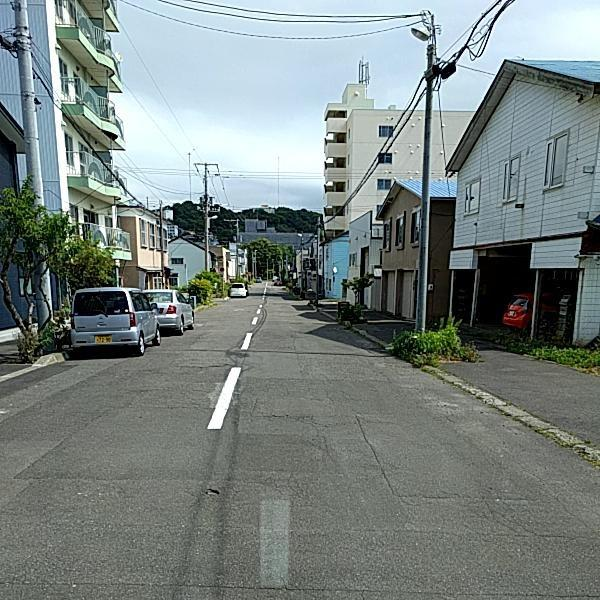pothole: (225, 350, 249, 356)
